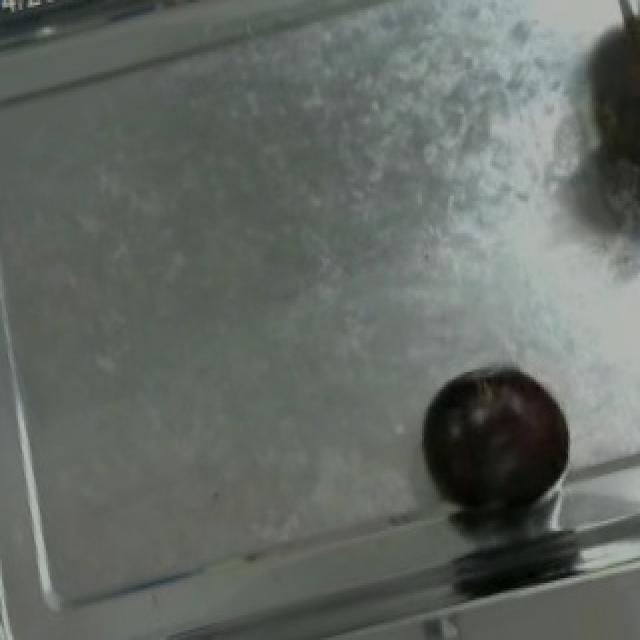Fruit: (406, 348, 588, 528)
